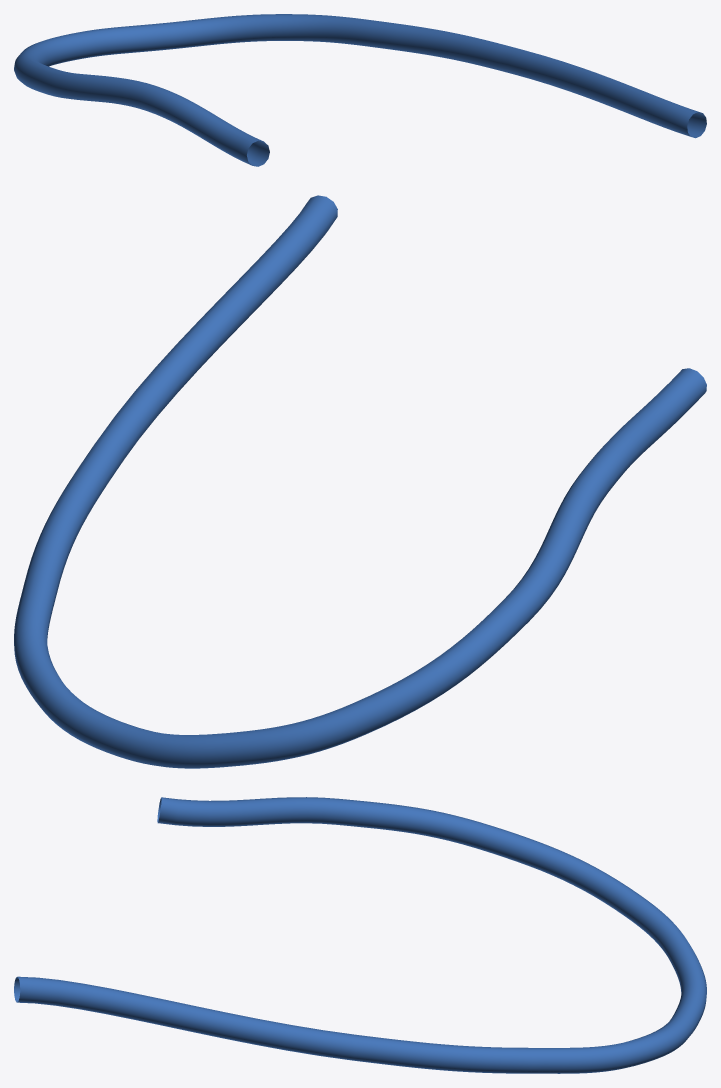
The picture shows the model from 3 angles, top to bottom: view 1: azimuth 30°, elevation 25°; view 2: azimuth 150°, elevation 25°; view 3: azimuth 270°, elevation 25°; orthographic projection. The views are drawn at different scales.
Parts seen in each view (by area): view 1: 右侧手背静脉网; view 2: 右侧手背静脉网; view 3: 右侧手背静脉网.
Part boxes in pixels (bbox=[...]): 右侧手背静脉网: bbox=[14, 14, 706, 166]; 右侧手背静脉网: bbox=[14, 195, 706, 768]; 右侧手背静脉网: bbox=[14, 797, 706, 1073].
Bounding box in the file's own units: 0.0719 × 0.0244 × 0.1054.
